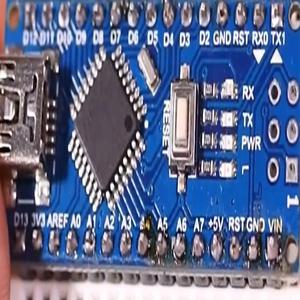duino: (6, 4, 298, 278)
